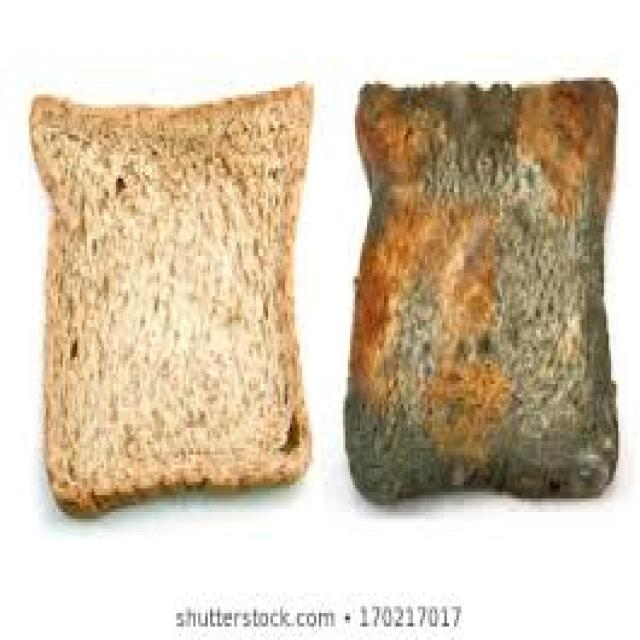organic: (24, 91, 330, 510), (346, 78, 616, 506)
